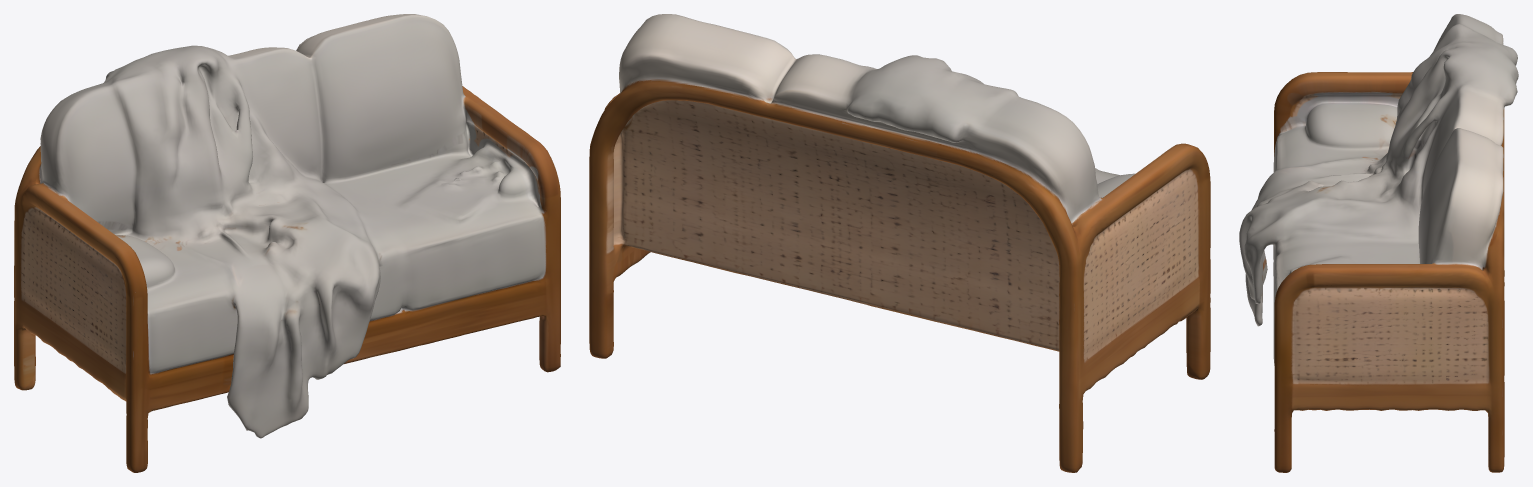
3 renders of one model, left to right at view 1: azimuth 30°, elevation 25°; view 2: azimuth 150°, elevation 25°; view 3: azimuth 270°, elevation 25°, orthographic. The views are drawn at different scales.
Parts seen in each view (by area): view 1: model; view 2: model; view 3: model.
Boxes of the visible parts, x1=… form: model: x1=14, y1=14, x2=560, y2=472; model: x1=589, y1=14, x2=1210, y2=472; model: x1=1239, y1=14, x2=1518, y2=472.
Size of the model in its own units: 1.91 by 1.32 by 1.12.
1 material, 1 textured.
